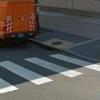Crosswalk: (4, 49, 83, 99)
